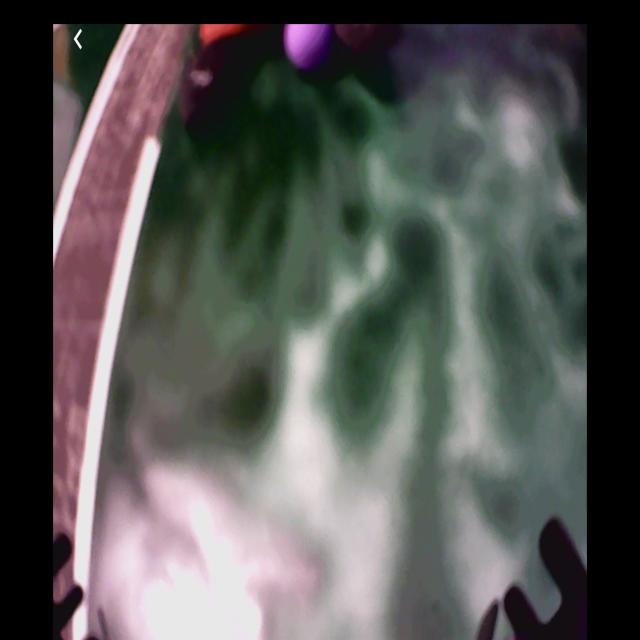ball: (286, 24, 328, 74)
